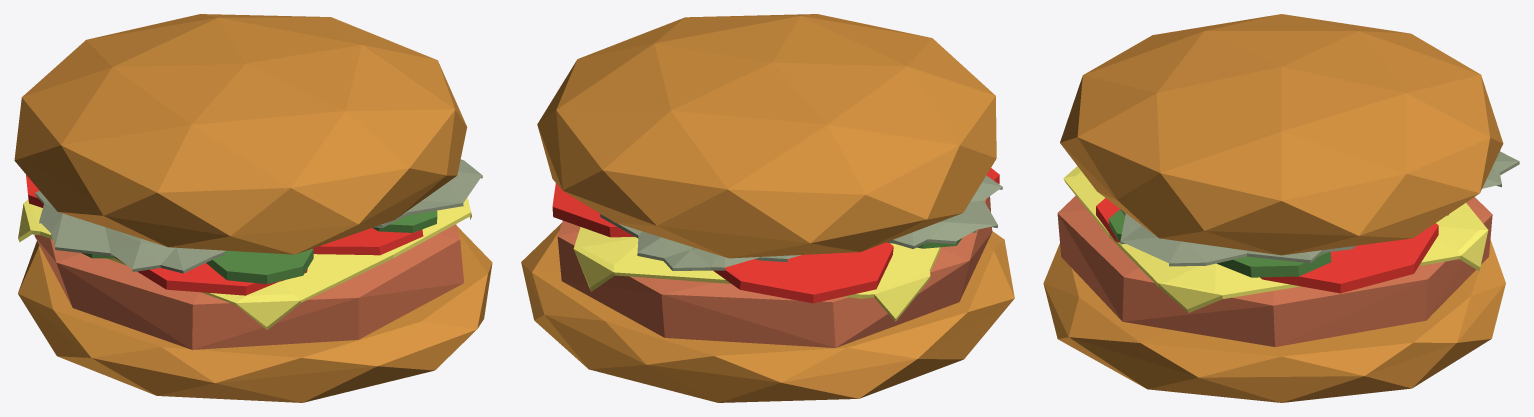
Rendered from SM_Food_Burger_01.fbx.
The picture shows the model from 3 angles, left to right: view 1: azimuth 30°, elevation 25°; view 2: azimuth 150°, elevation 25°; view 3: azimuth 270°, elevation 25°; orthographic projection. The views are drawn at different scales.
Parts seen in each view (by area): view 1: SM_Food_Burger_01; view 2: SM_Food_Burger_01; view 3: SM_Food_Burger_01.
Boxes of the visible parts, box(x1,y1,x2,y2) form: SM_Food_Burger_01: box(14, 14, 492, 402); SM_Food_Burger_01: box(521, 14, 1014, 402); SM_Food_Burger_01: box(1043, 14, 1519, 402).
Size of the model in its own units: 0.1693 by 0.105 by 0.1729.
